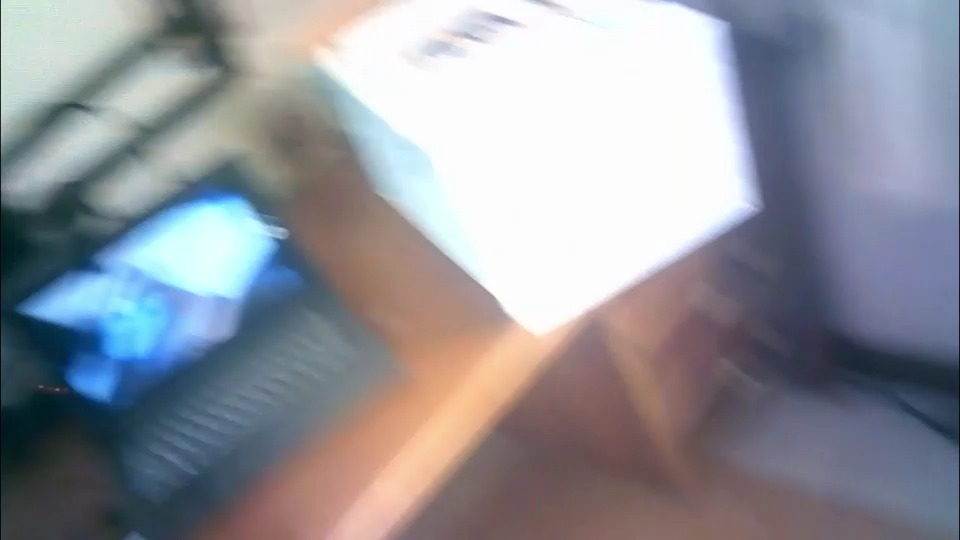wheat_flour_blue_label: (319, 10, 764, 330)
